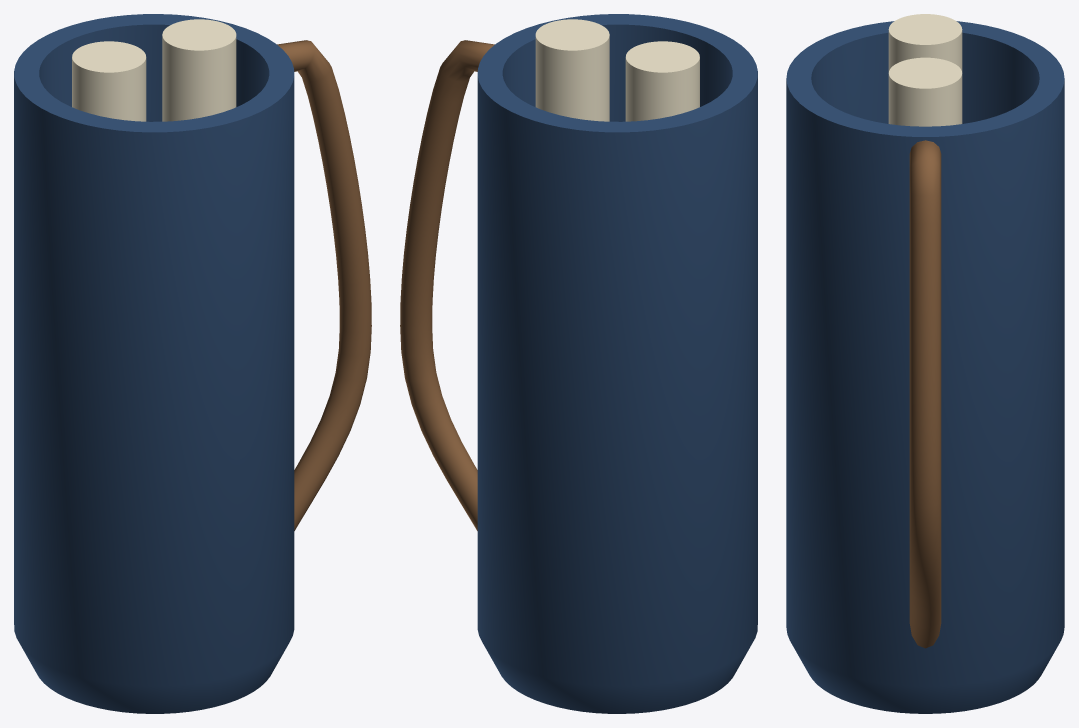
File: fantasy-cartographers-map-printing-guild-map-scroll-qu-21b03c90__32239.glb
The picture shows the model from 3 angles, left to right: view 1: azimuth 30°, elevation 25°; view 2: azimuth 150°, elevation 25°; view 3: azimuth 270°, elevation 25°; orthographic projection.
Parts seen in each view (by area): view 1: map-scroll-quiver; view 2: map-scroll-quiver; view 3: map-scroll-quiver.
Boxes of the visible parts, x1,y1,x2,y2 form: map-scroll-quiver: (14,14,371,713); map-scroll-quiver: (400,14,757,713); map-scroll-quiver: (786,14,1064,713).
Bounding box in the file's own units: 0.3884 × 0.68 × 0.28.
